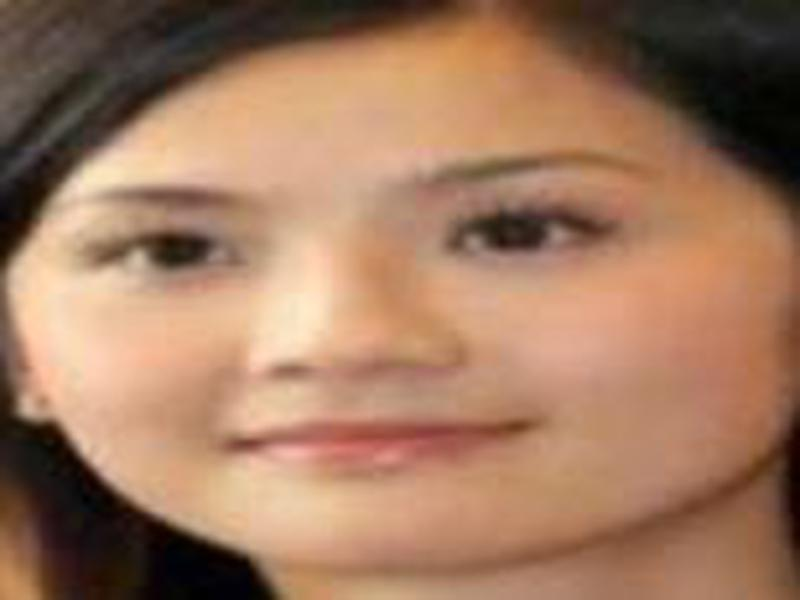without_mask: (19, 85, 789, 568)
